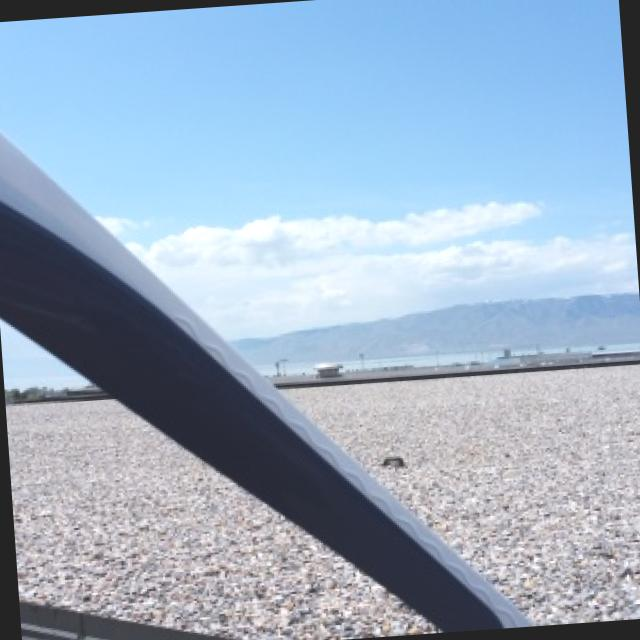healthy: (0, 134, 527, 626)
